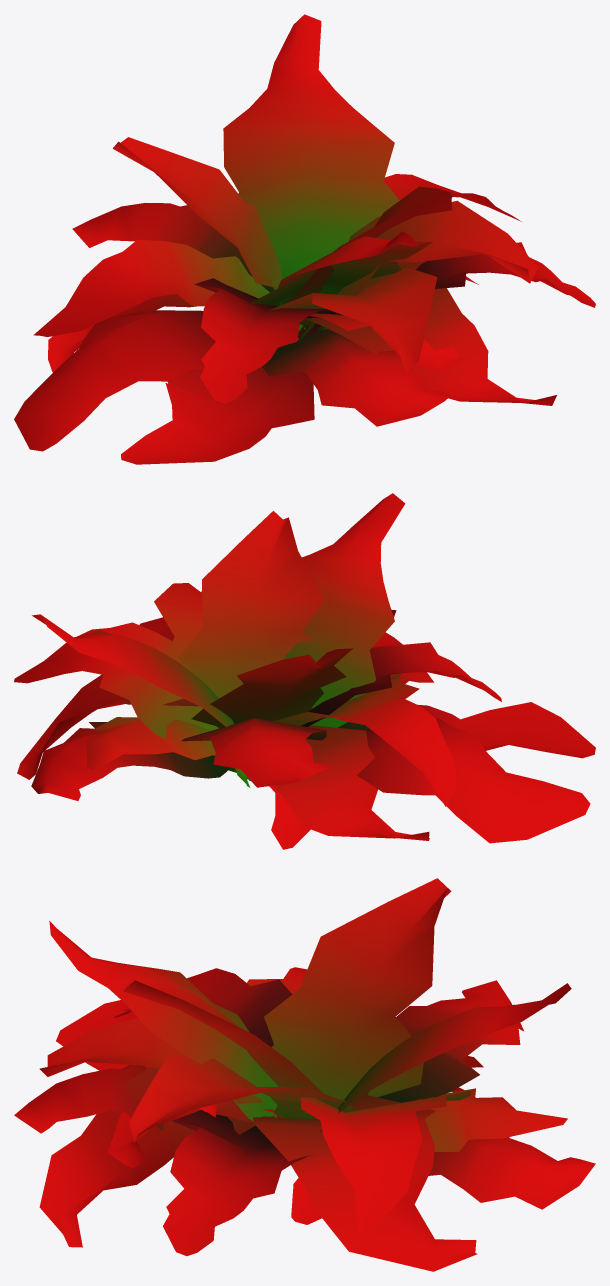
Rendered from Fern_Var2_LOD0.fbx.
3 views of the same model, one above another, from view 1: azimuth 30°, elevation 25°; view 2: azimuth 150°, elevation 25°; view 3: azimuth 270°, elevation 25° (orthographic). The views are drawn at different scales.
Parts seen in each view (by area): view 1: Var2_LOD0; view 2: Var2_LOD0; view 3: Var2_LOD0.
Part boxes in pixels (<box>): Var2_LOD0: <box>14,14,595,464</box>; Var2_LOD0: <box>14,493,595,849</box>; Var2_LOD0: <box>14,878,595,1271</box>.
Size of the model in its own units: 56.94 by 23.14 by 47.63.
